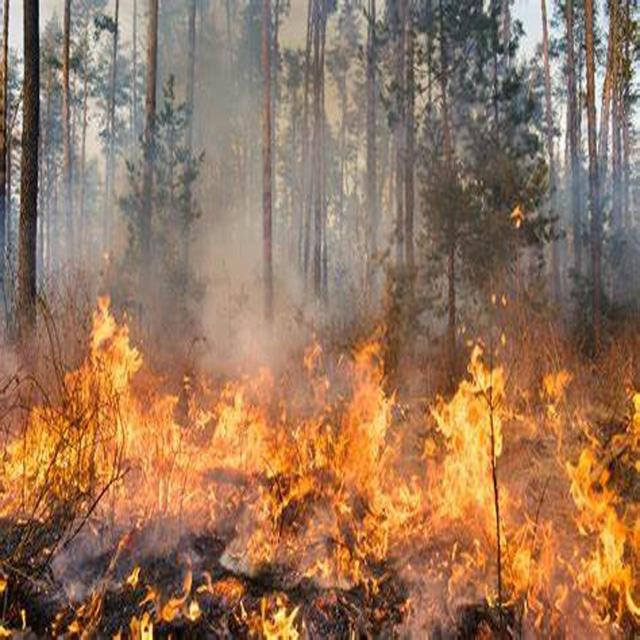fire: (547, 425, 640, 621), (446, 310, 500, 553), (73, 282, 136, 481), (338, 341, 380, 522), (192, 386, 278, 462), (260, 586, 296, 638)
smoke: (181, 126, 302, 363)
